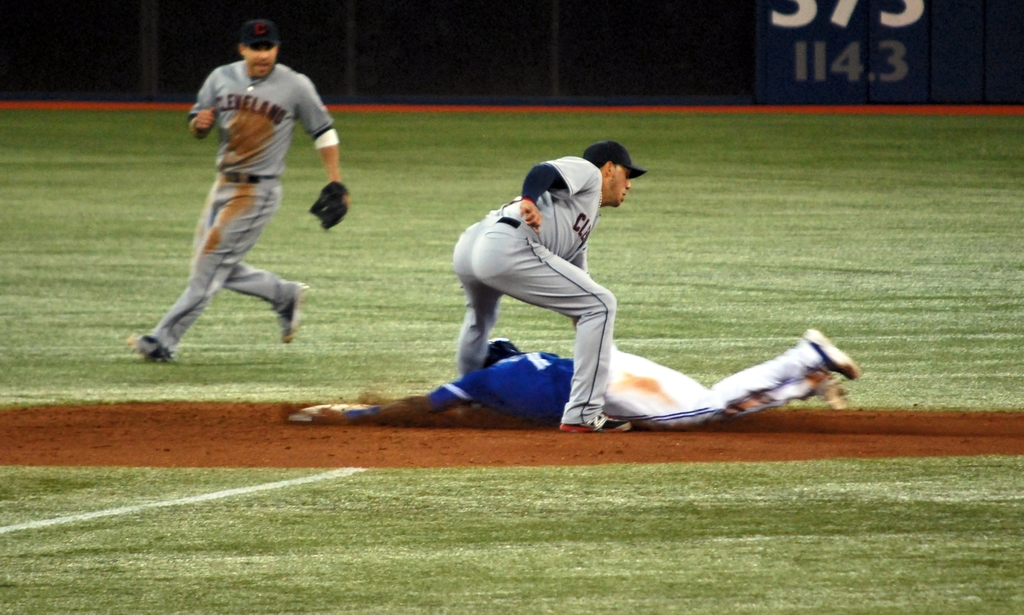Footwear: (793, 335, 862, 398), (275, 281, 308, 344), (123, 334, 175, 359), (559, 416, 632, 433)
